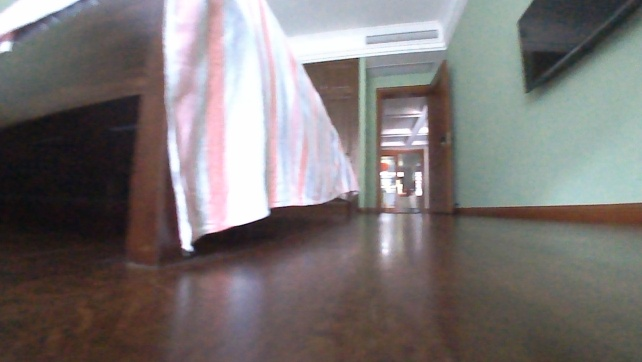bed1: (0, 0, 357, 267)
door_anno: (422, 58, 458, 215)
